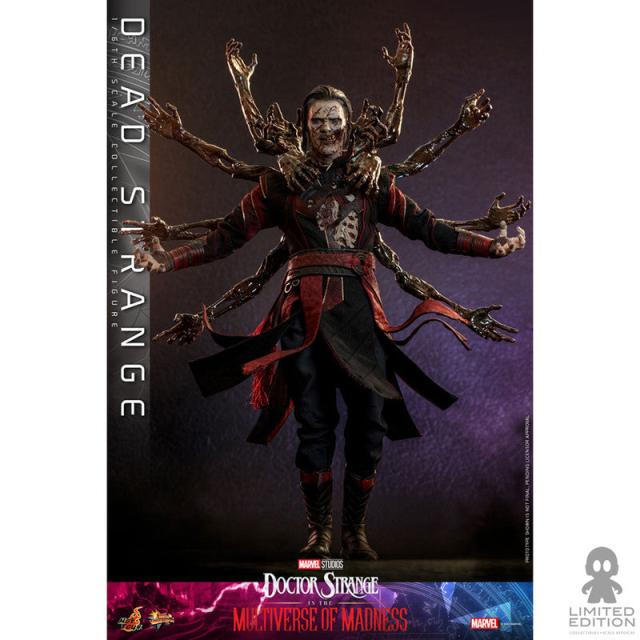doctor_strange: (218, 65, 443, 559)
